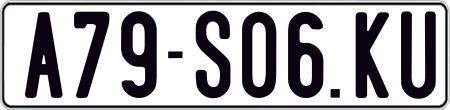0: (242, 11, 279, 103)
6: (287, 12, 325, 101)
7: (74, 9, 109, 99)
9: (121, 10, 160, 97)
A: (25, 9, 67, 99)
K: (353, 12, 389, 98)
S: (195, 10, 234, 100)
U: (401, 9, 434, 101)
